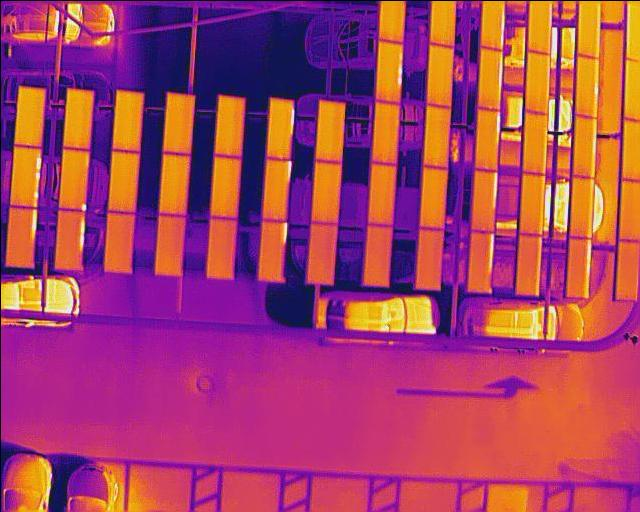Cell: (60, 148, 88, 208)
No-Anomaly: (210, 154, 240, 217), (15, 85, 45, 145), (306, 221, 335, 283), (261, 158, 290, 220), (310, 162, 340, 221), (207, 217, 236, 278), (316, 98, 344, 161), (256, 220, 285, 280), (155, 214, 184, 274), (160, 151, 187, 214), (215, 95, 243, 155), (63, 88, 91, 148), (109, 150, 136, 211), (113, 90, 140, 151), (106, 211, 132, 272), (164, 94, 191, 152), (365, 224, 391, 284), (518, 172, 543, 234), (369, 162, 394, 224), (415, 229, 441, 288), (613, 240, 638, 301), (514, 234, 539, 295), (568, 177, 593, 238), (420, 168, 445, 229), (570, 115, 595, 176), (520, 111, 545, 172), (268, 97, 293, 158), (372, 100, 396, 163), (524, 52, 548, 112), (425, 104, 448, 166), (428, 41, 450, 105), (618, 179, 640, 239), (620, 118, 640, 180)
Unclassified: (11, 146, 39, 206), (55, 209, 82, 269), (8, 206, 35, 266), (470, 169, 495, 231), (565, 237, 590, 297), (573, 54, 597, 116), (468, 230, 492, 291), (377, 41, 401, 102), (475, 106, 498, 169), (478, 48, 501, 108)
